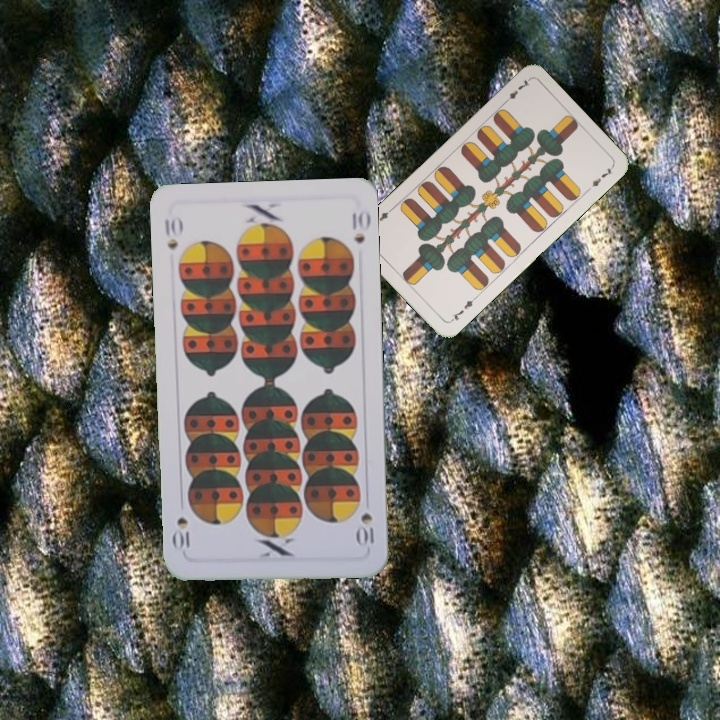E7: (499, 75, 533, 107), (446, 293, 479, 325)
S10: (354, 509, 377, 549), (161, 213, 184, 253)
